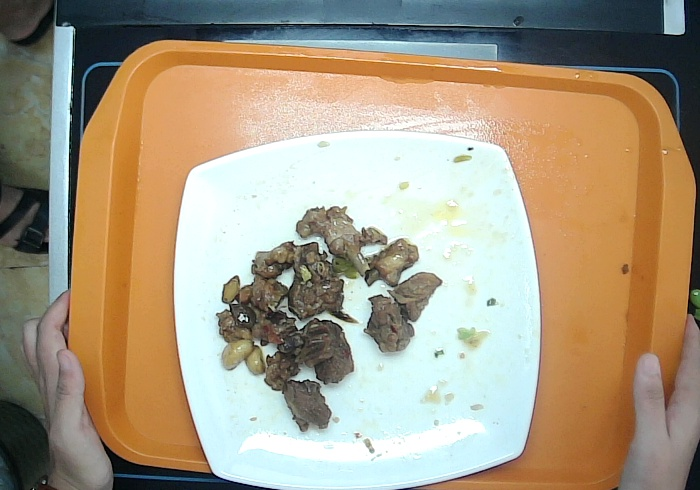ZNLD-Bai_Fang_Pan: (175, 130, 543, 490)
